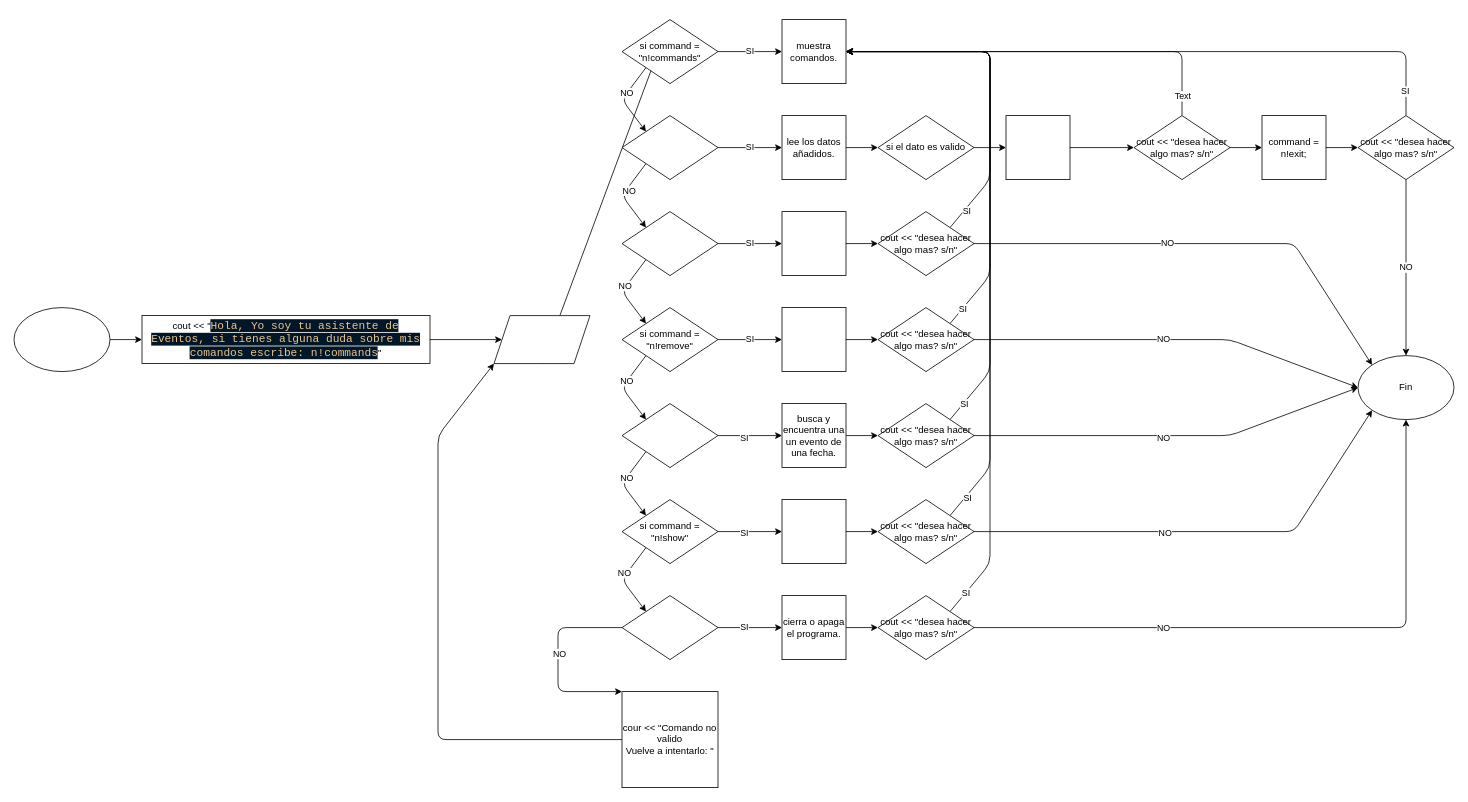
Some shapes in this 1468 by 802 pixel diagram are drawn without their labels. The centre of each missing label's shape, as x and y in pixels:
agrega el evento a la fecha.: pixel 1037 147
elimina todas los elementos de una fecha.: pixel 813 339
elimina un evento especifico.: pixel 813 243
Inicio: pixel 61 339
muestra todos los eventos de todas las fechas.: pixel 813 531
n!exit: pixel 669 627
si command = "n!add": pixel 669 147
si command = "n!erase": pixel 669 243
si command = "n!find": pixel 669 435
string command; cin >> command;: pixel 541 339
